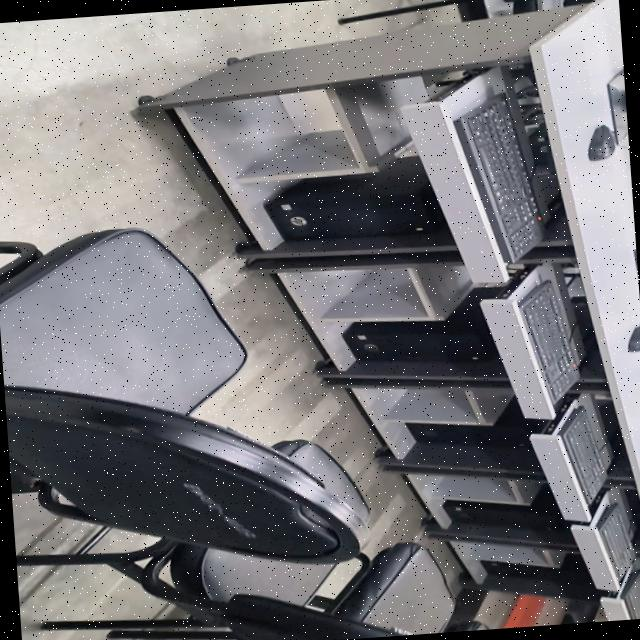Chair: (0, 227, 367, 562), (41, 538, 400, 640), (352, 541, 453, 634), (272, 438, 369, 522), (338, 0, 472, 23)
Cpu: (268, 156, 447, 239), (376, 399, 551, 473), (343, 286, 496, 362), (428, 484, 575, 547), (473, 553, 614, 600)
Keyboard: (453, 86, 543, 262), (570, 488, 635, 589), (518, 279, 578, 385), (558, 404, 606, 503), (599, 568, 640, 621)
Mouse: (588, 124, 616, 160), (628, 325, 640, 350)
